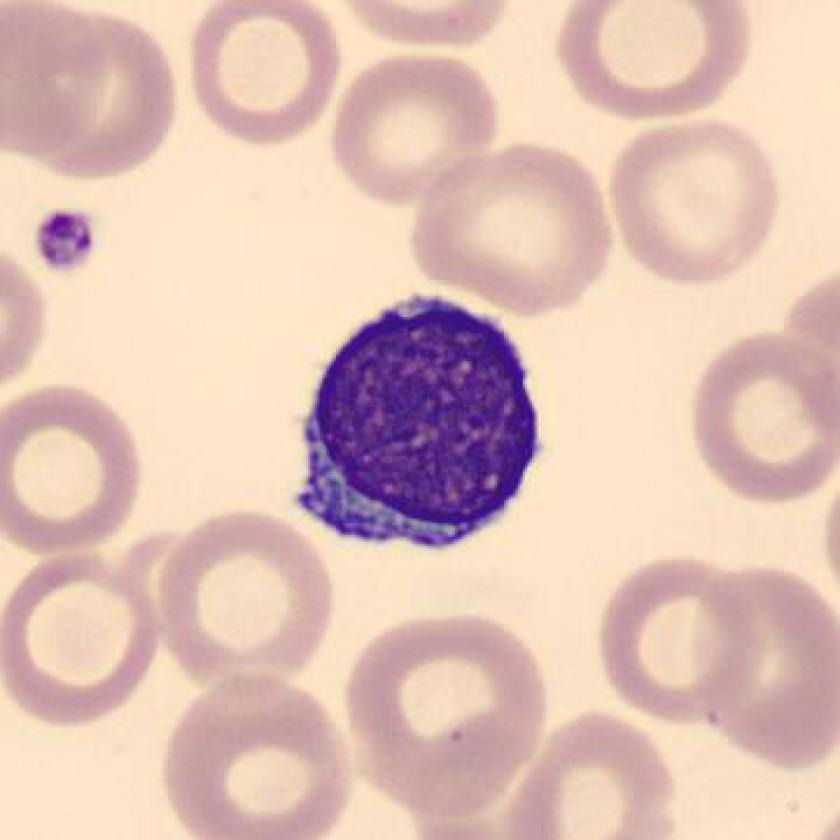lymphocyte: (281, 284, 561, 578)
